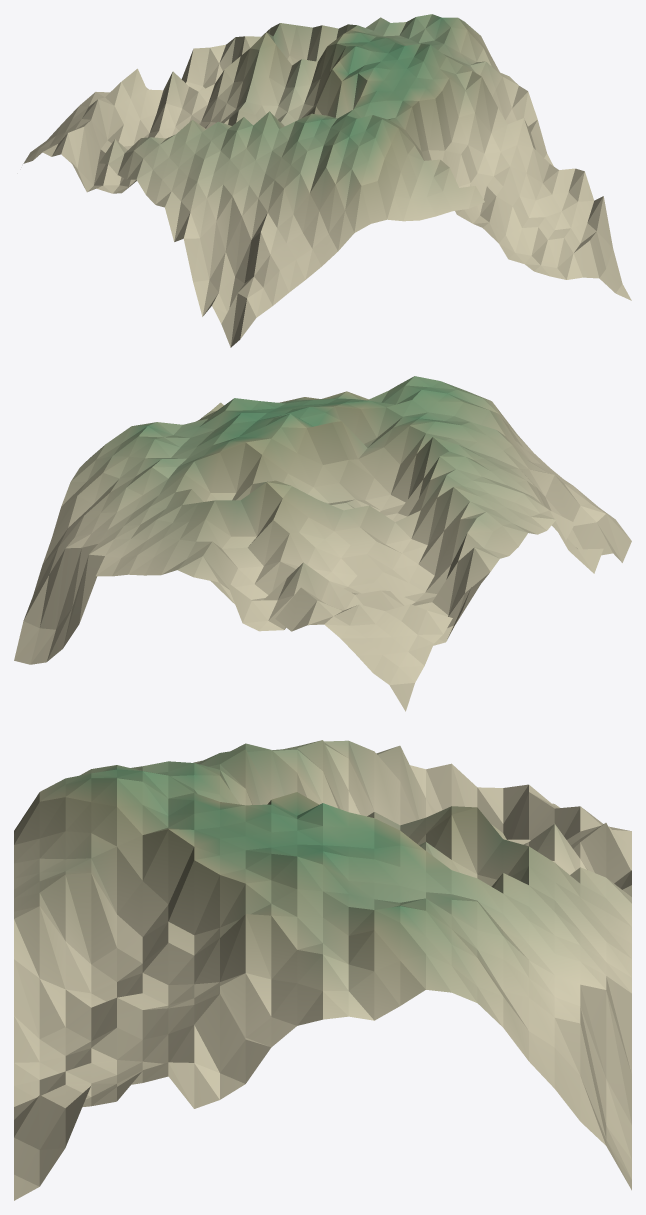
The model's file is island_lod2.glb.
The picture shows the model from 3 angles, top to bottom: view 1: azimuth 30°, elevation 25°; view 2: azimuth 150°, elevation 25°; view 3: azimuth 270°, elevation 25°; orthographic projection. The views are drawn at different scales.
Parts seen in each view (by area): view 1: world; view 2: world; view 3: world.
Part boxes in pixels (bbox=[...]): world: bbox=[23, 14, 631, 347]; world: bbox=[14, 376, 631, 711]; world: bbox=[14, 740, 631, 1200].
Size of the model in its own units: 2 by 1.03 by 2.
